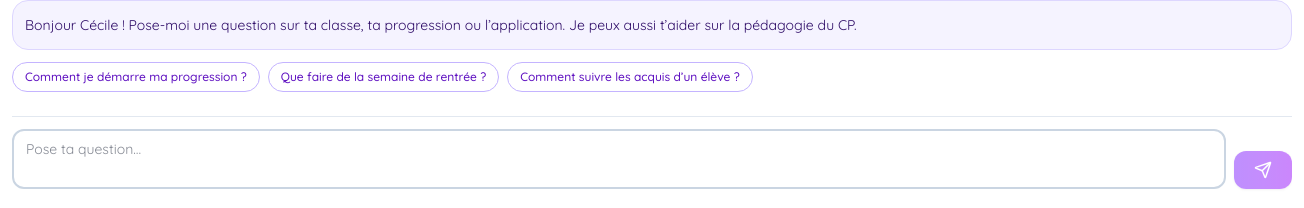
Test: ChatAssistant › envoie la question et affiche la réponse de l’assistant
Step 1. Type "Par où je commence ?" into the text box labelled "ta question" → (619, 159), box [12,129,1226,189]
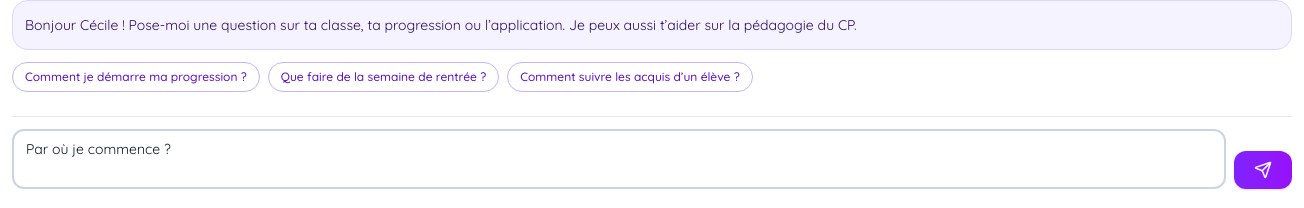
Step 2. Click the button named "Envoyer" → (1263, 170), box [1234,151,1292,189]
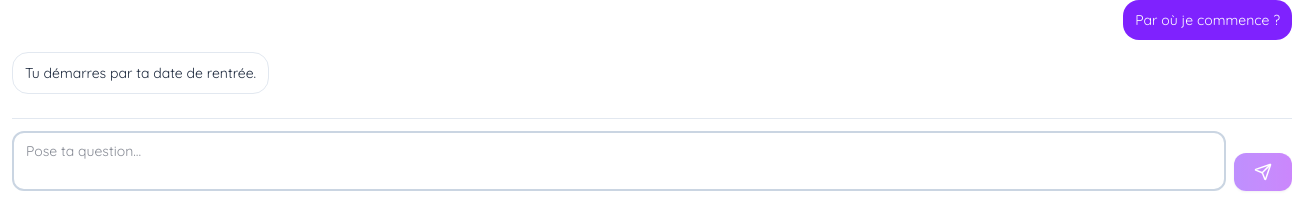
Now the text "Tu démarres par ta date de rentrée." is shown, box [12,52,269,94]
Now the text "Par où je commence ?" is shown, box [1123,0,1292,40]
